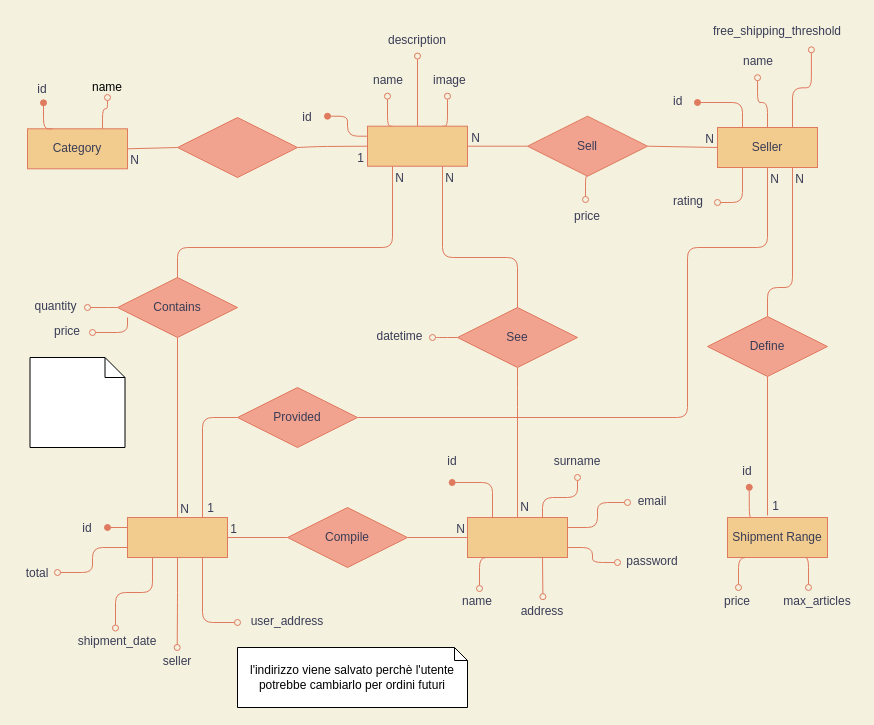
This 874x725 diagram has some shape labels left out. The shapes that lost their labels are listed below. From the top down, each one's centre as x and y in pixels, then its label:
point (237, 147): Belong
point (417, 145): Article
point (77, 402): il prezzo viene salvato per bloccarlo
point (177, 537): Order
point (517, 537): User
